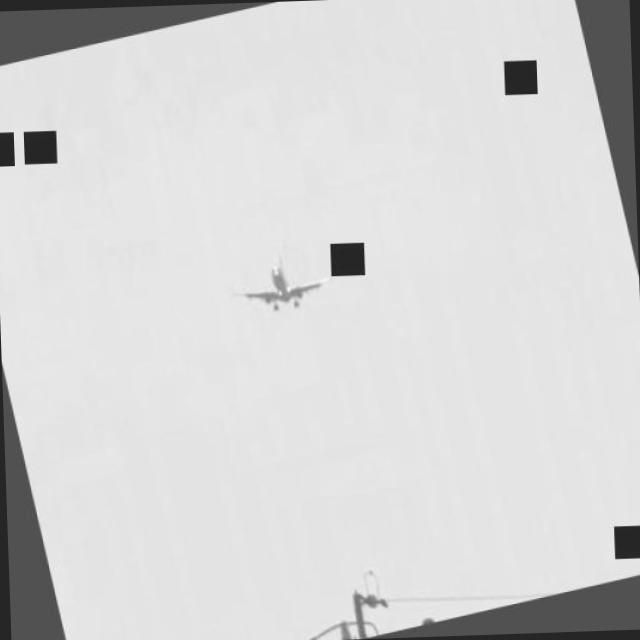aeroplane: (243, 260, 320, 315)
